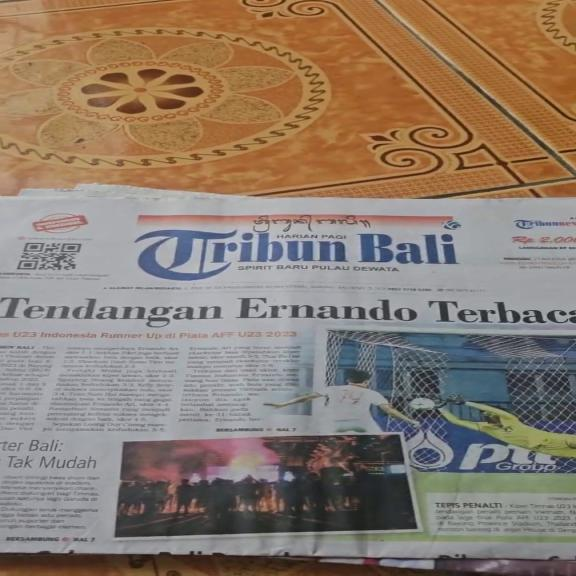Kertas: (0, 196, 568, 554)
